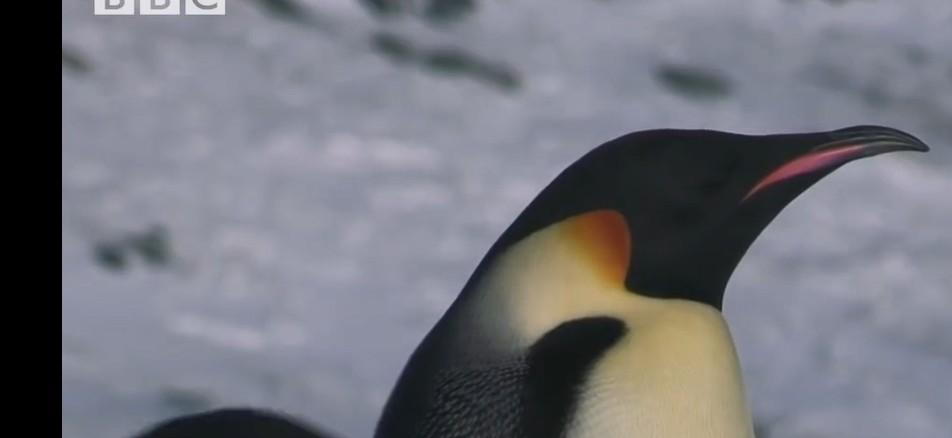Emperor Penguin: (343, 107, 948, 438), (62, 406, 526, 438)
